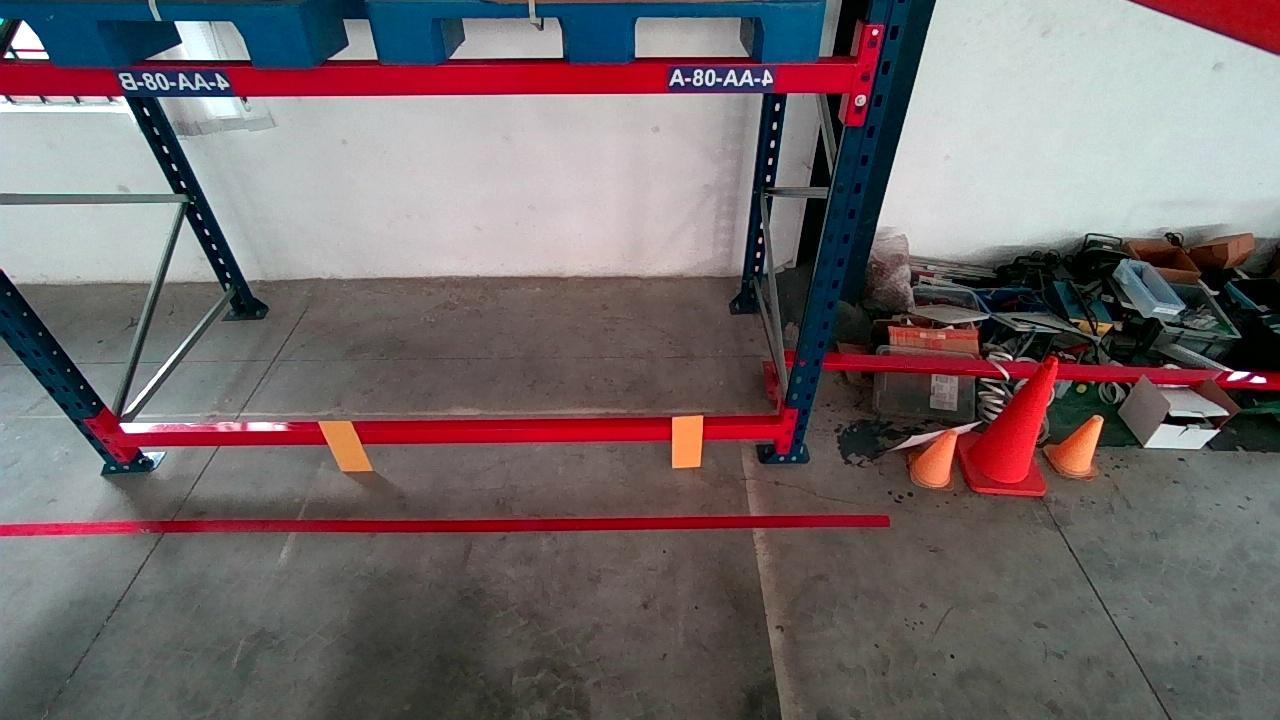h_rack: (5, 53, 855, 95), (123, 411, 787, 452)
orange_strip: (320, 419, 373, 471), (671, 414, 704, 467)
small_pallet: (376, 0, 832, 60), (2, 1, 310, 64)
